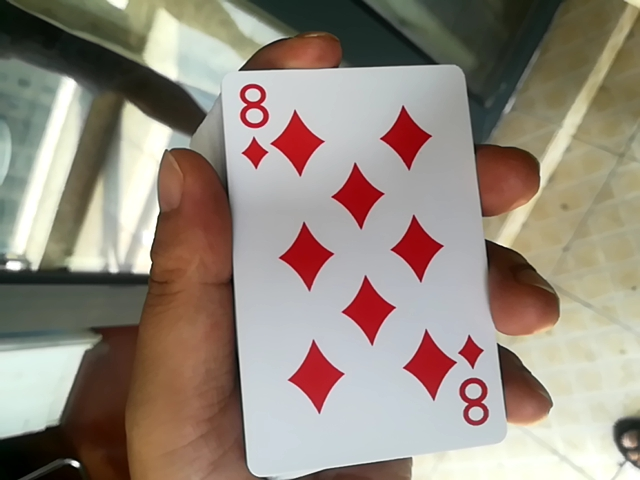fk 8: (197, 54, 488, 469)
